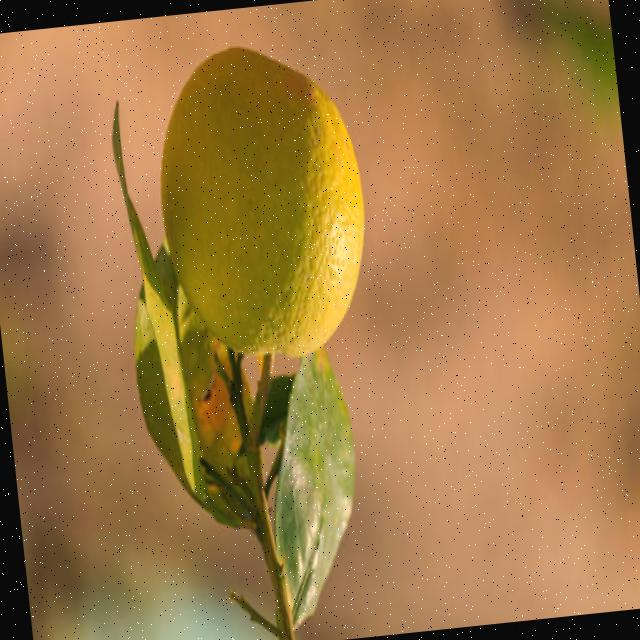Unripe: (142, 35, 378, 368)
